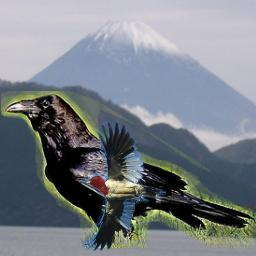Crow: (1, 91, 256, 248)
Woodpecker: (82, 121, 166, 252)
